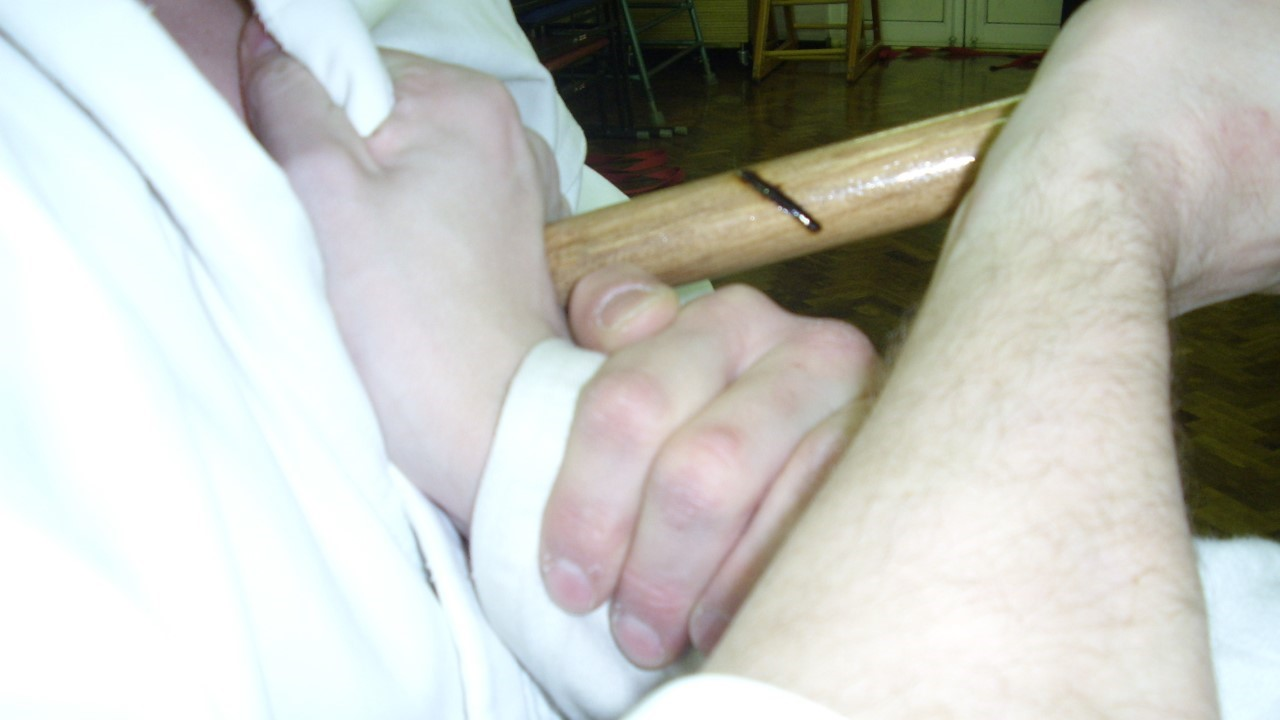baston_e: (560, 88, 1026, 314)
